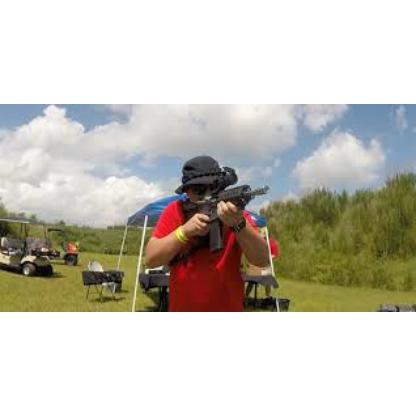gun: (176, 179, 272, 251)
